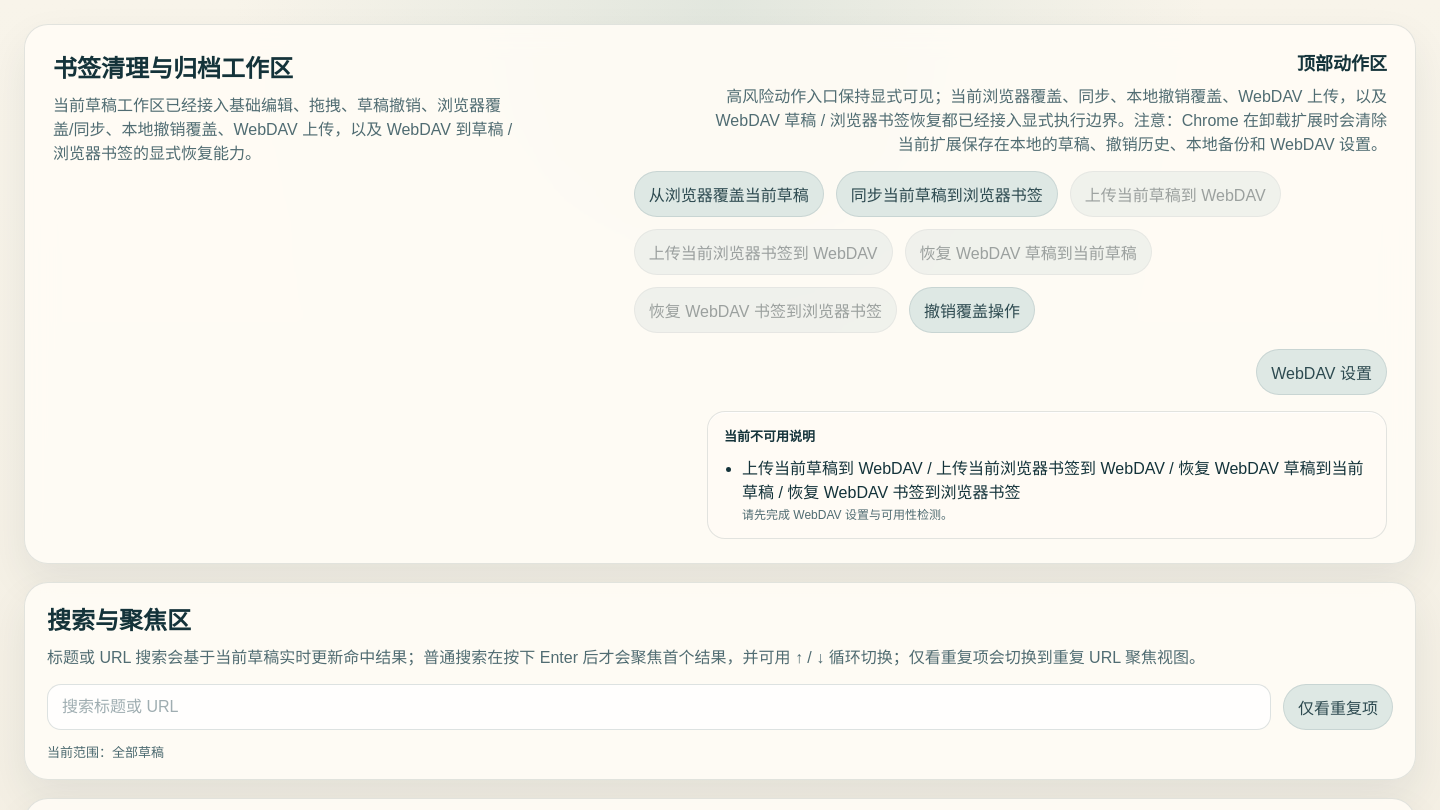
Test: T09B local backup and undo-overwrite gate › enables the undo-overwrite entry and opens a chooser when valid local backup slots exist
The width and height of the screenshot is (1440, 810).
Step 1. Click the button "撤销覆盖操作" → (972, 310), box [909,287,1035,333]
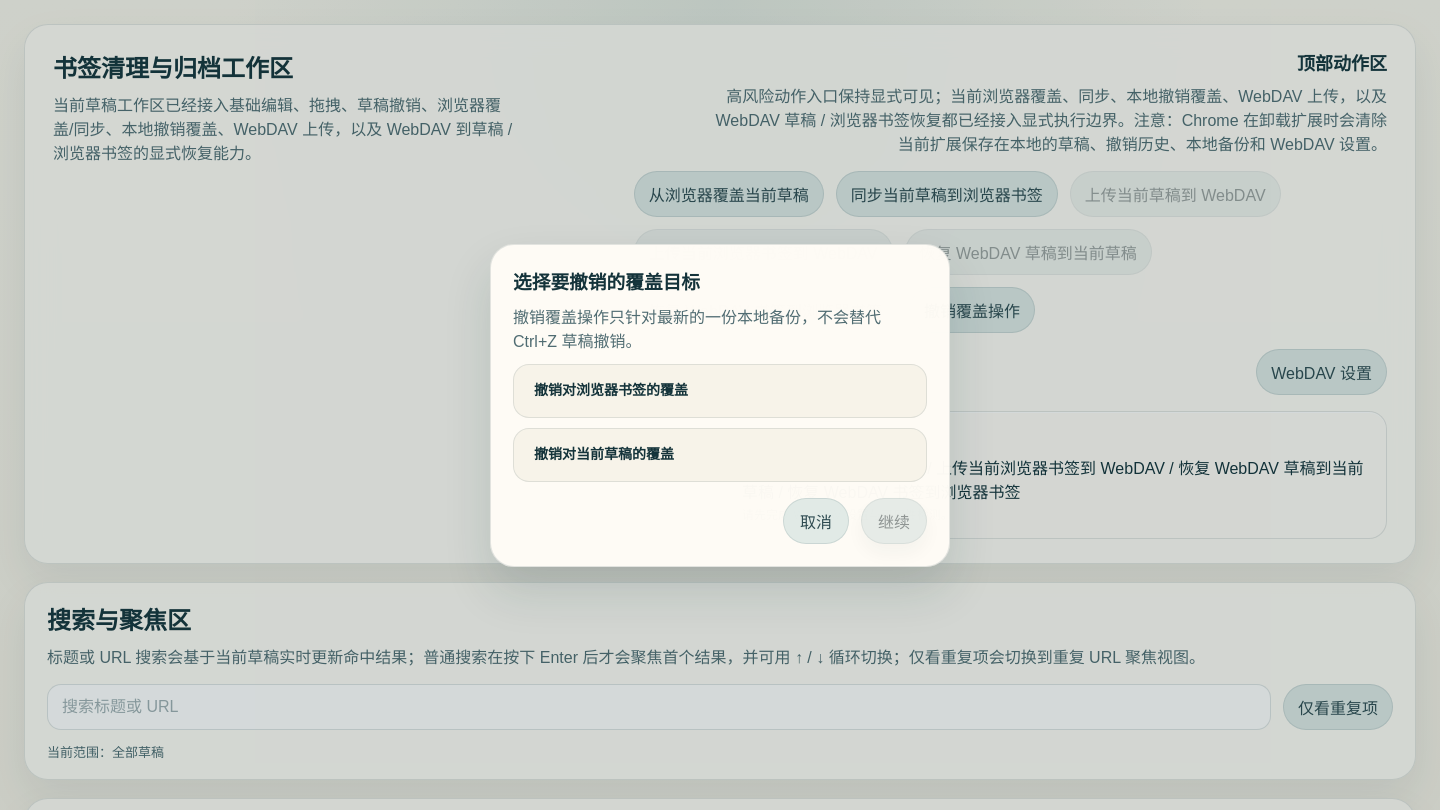
Now the button "撤销对浏览器书签的覆盖" is shown, box [513,364,927,418]
Now the button "撤销对当前草稿的覆盖" is shown, box [513,428,927,482]
Now the button "继续" is disabled, box [861,498,927,544]
